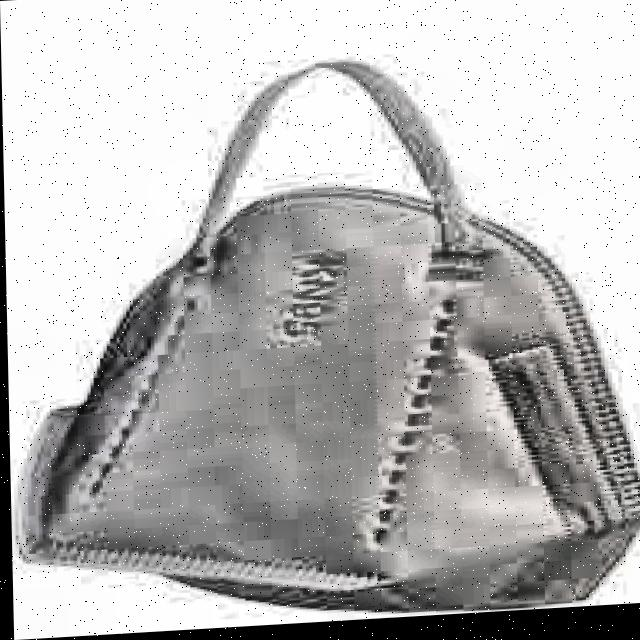trash: (5, 167, 640, 640)
